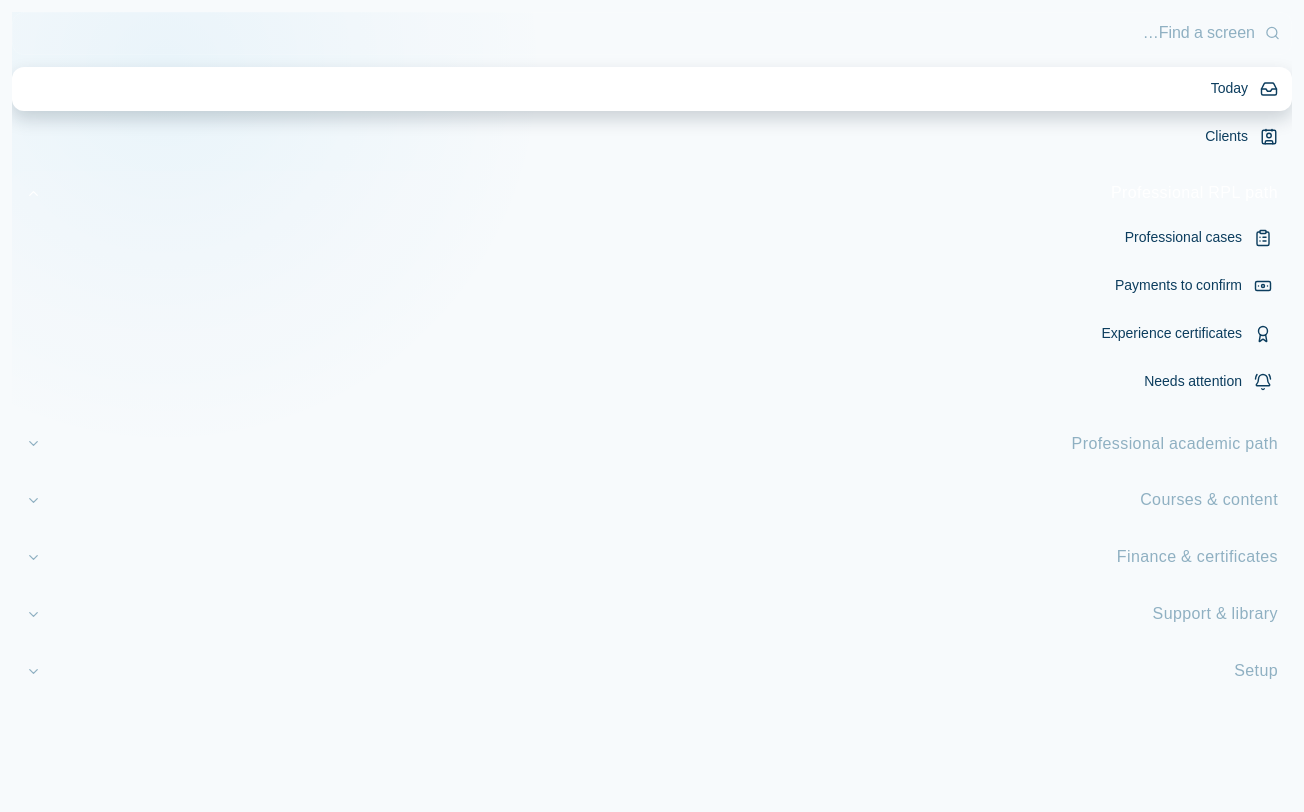
Test case: the open group is remembered by key › still renders when storage throws
This screenshot has width=1304, height=812.
Click the button "Setup" at (1256, 671), box x1=12 y1=649 x2=1292 y2=694
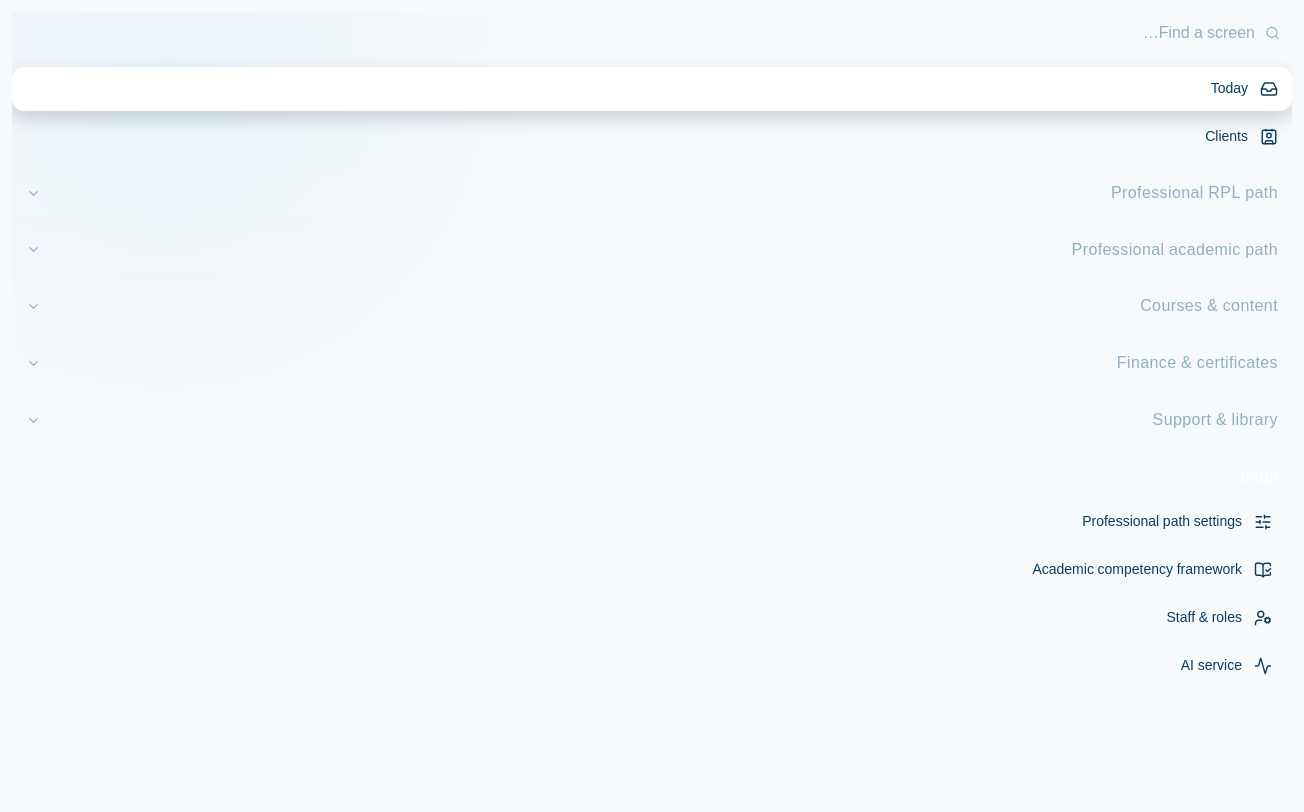
Check: the link "Professional path settings" is shown, box x1=1082 y1=507 x2=1272 y2=536
